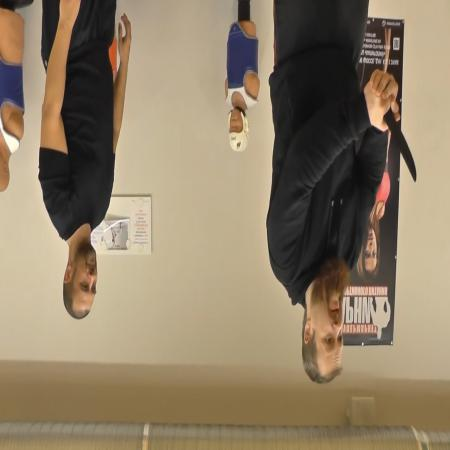long weapon: (368, 71, 418, 189)
